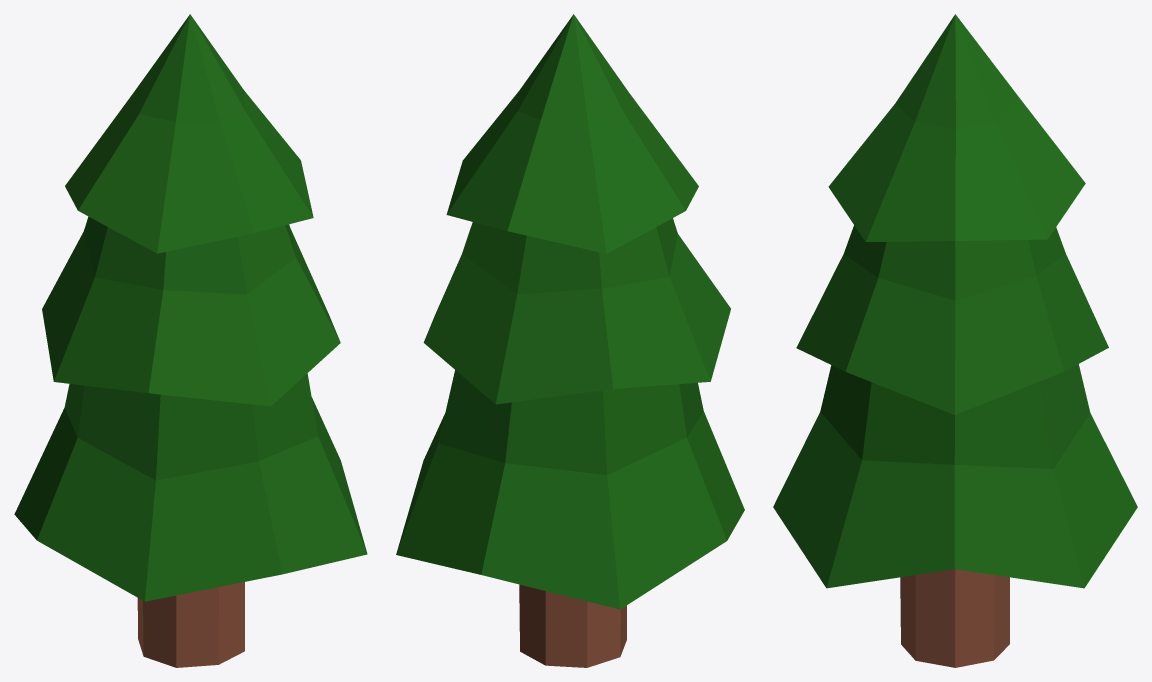
Rendered from tree6.glb.
3 renders of one model, left to right at view 1: azimuth 30°, elevation 25°; view 2: azimuth 150°, elevation 25°; view 3: azimuth 270°, elevation 25°, orthographic.
Parts seen in each view (by area): view 1: Tree_01_autumn; view 2: Tree_01_autumn; view 3: Tree_01_autumn.
Part boxes in pixels (bbox=[...]): Tree_01_autumn: bbox=[14, 14, 367, 667]; Tree_01_autumn: bbox=[396, 14, 744, 667]; Tree_01_autumn: bbox=[773, 14, 1137, 667].
Size of the model in its own units: 0.8322 by 1.65 by 0.8678.
Materials: 1 (1 with a texture image).
